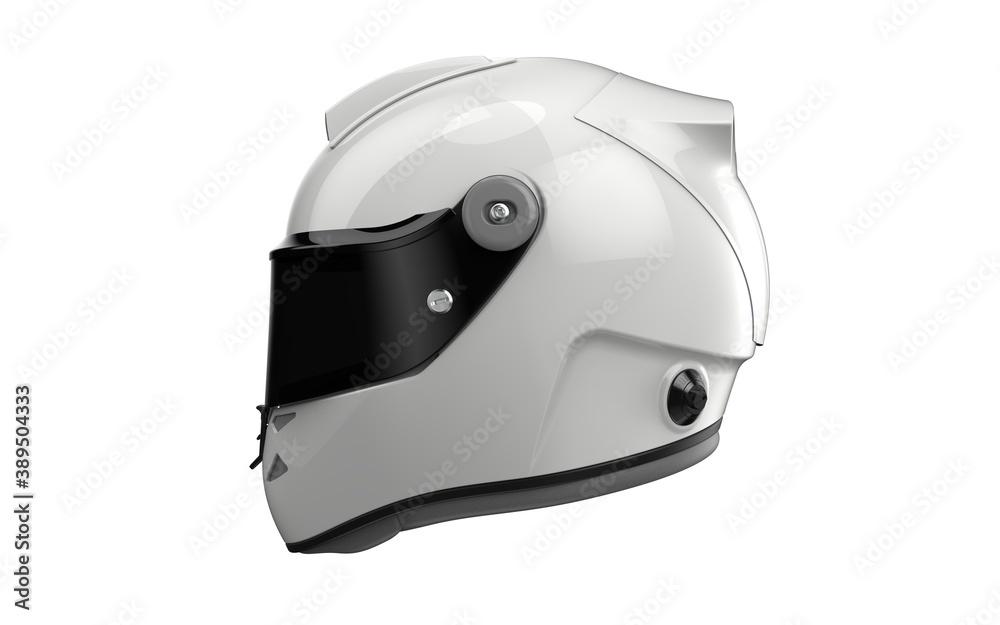helmet: (248, 52, 773, 556)
